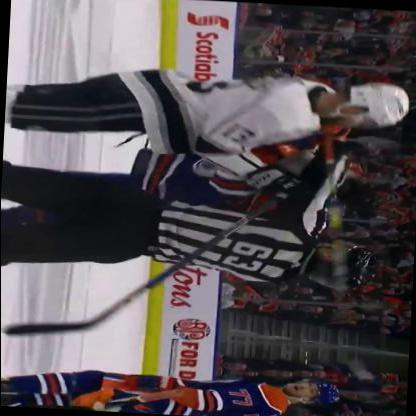non-Voilence: (1, 358, 340, 415)
